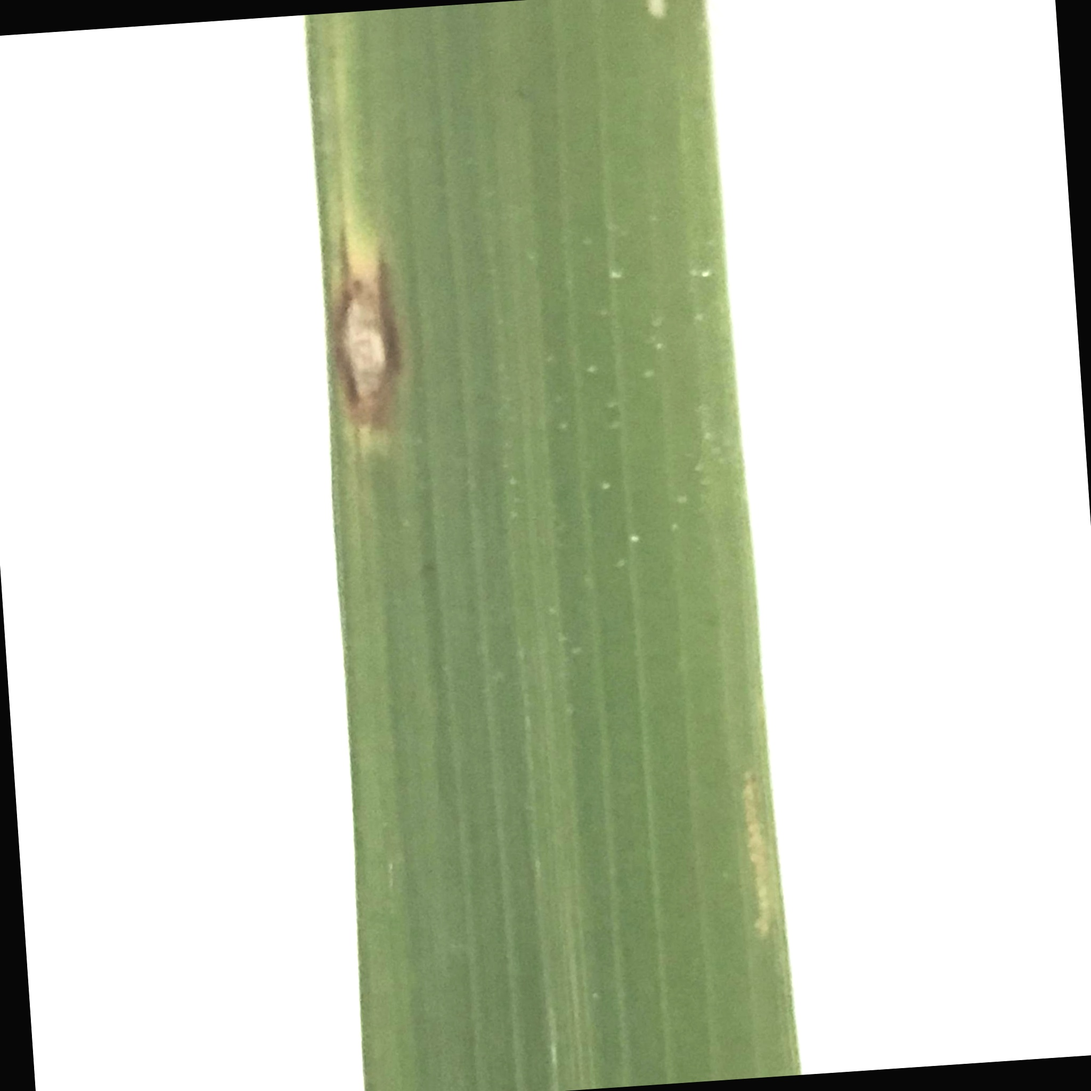Brown_Spot: (283, 170, 439, 483)
